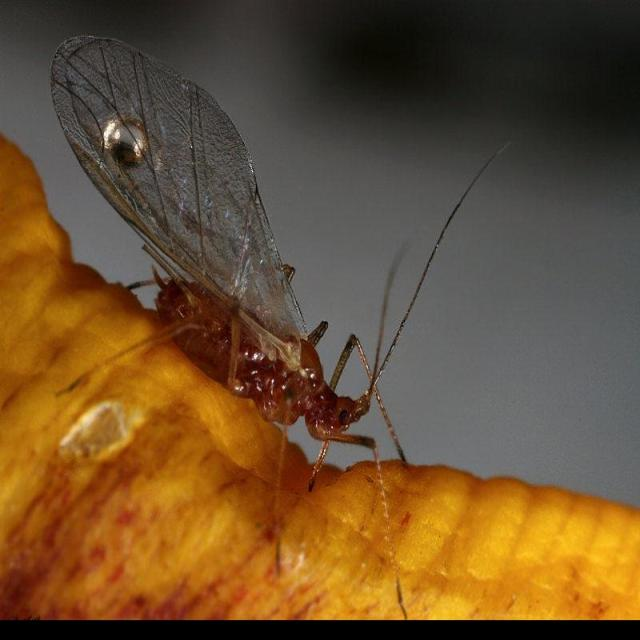Aphids: (59, 34, 455, 509)
